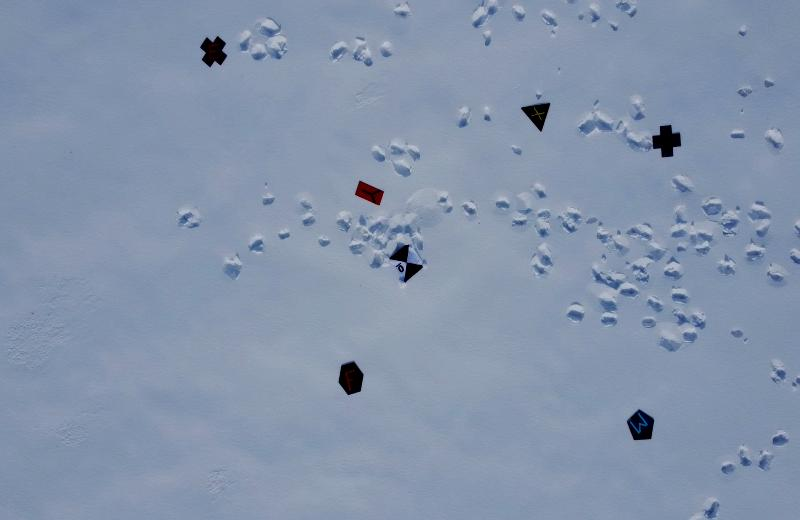Cross: (199, 36, 228, 67)
Hexagon: (338, 357, 368, 397), (652, 124, 683, 159), (520, 99, 552, 131)
Pentagon: (626, 408, 654, 442)
Quarter Circle: (353, 177, 386, 209)
